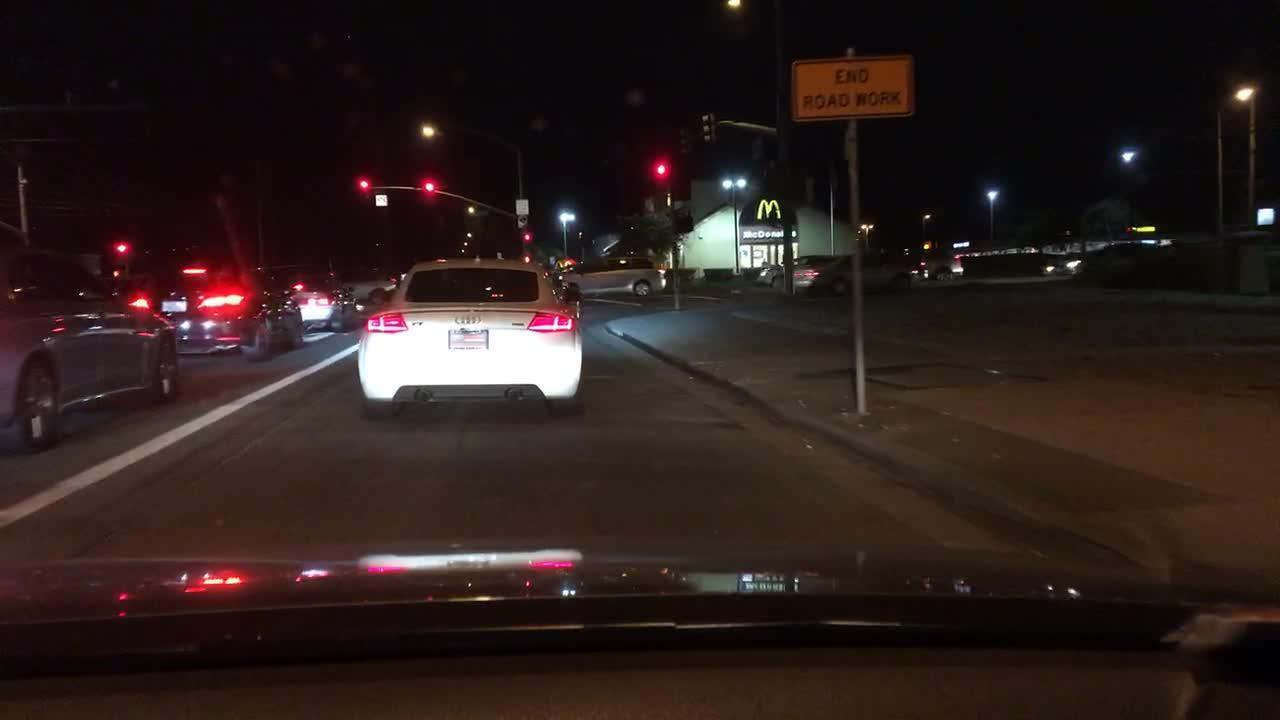Audi: (451, 311, 486, 327)
